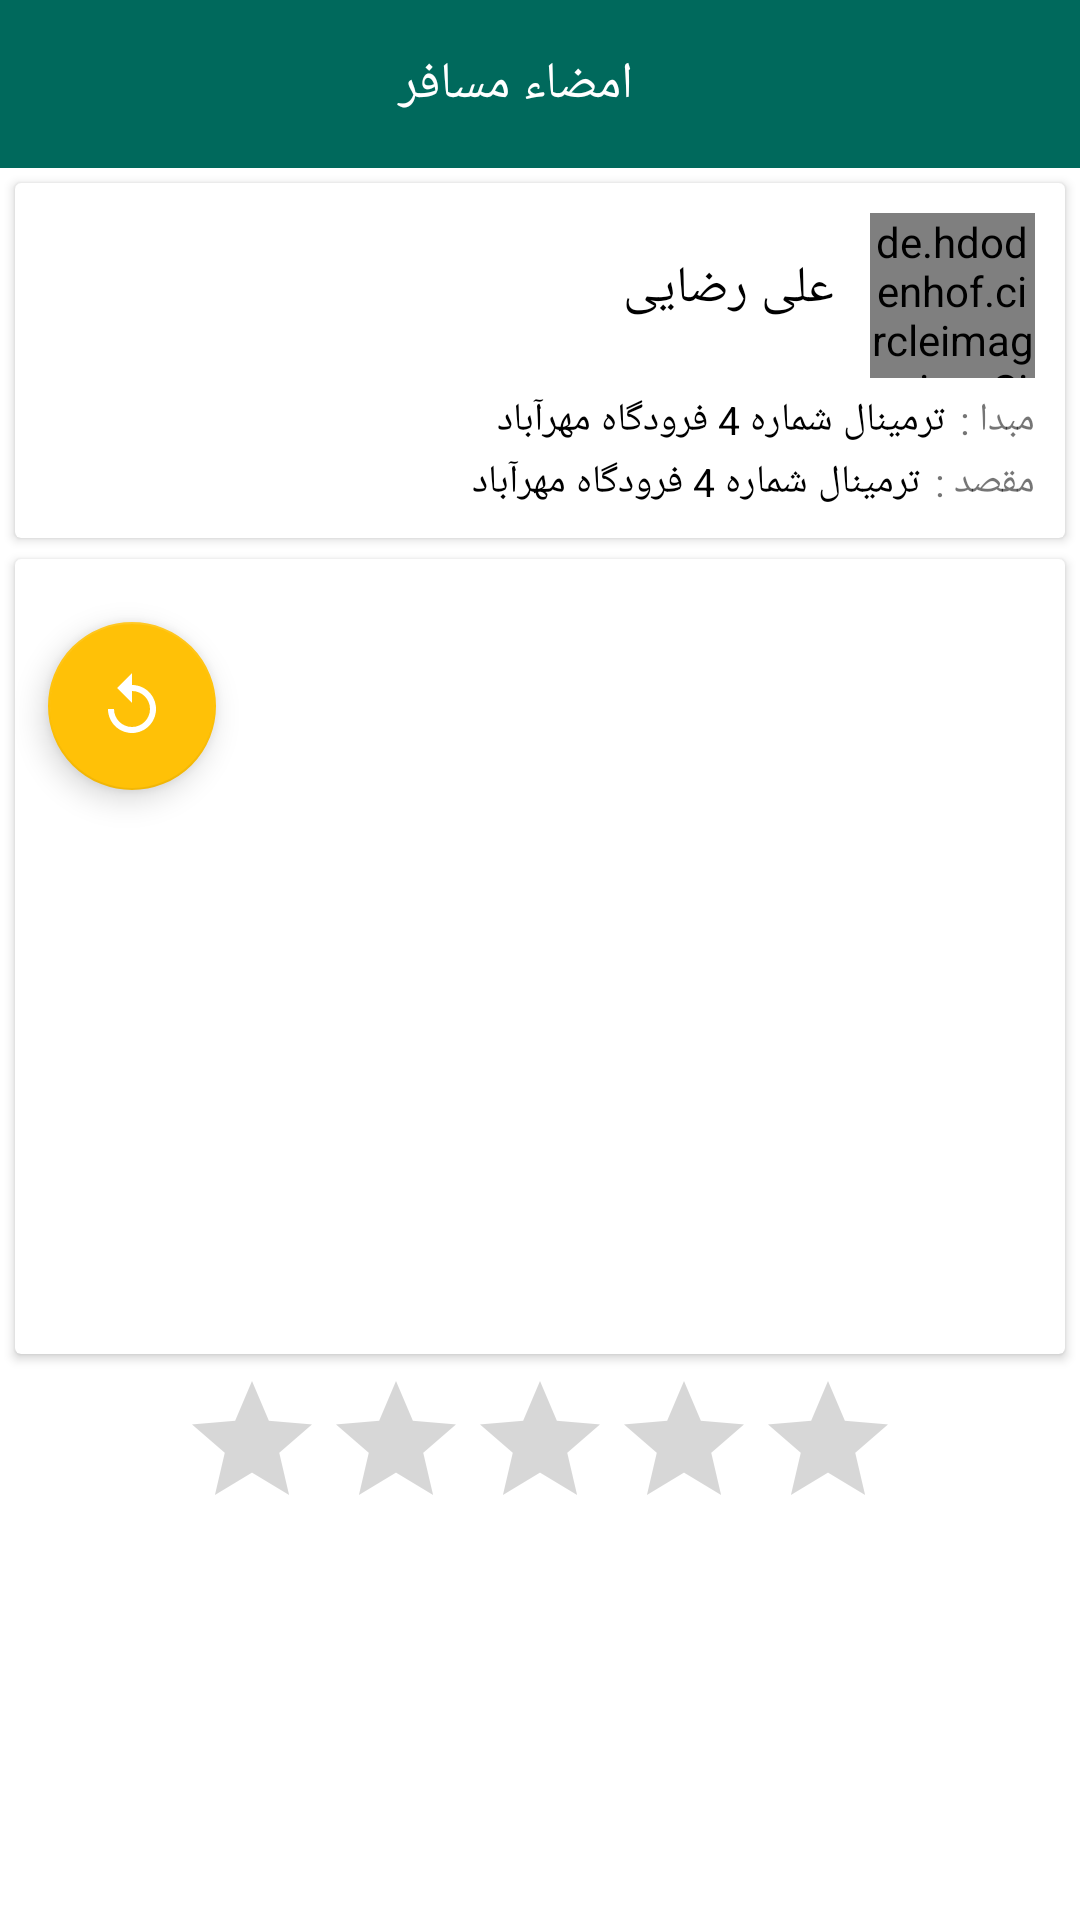

Icon bounding boxes for this 1080w x 1920h phone screenshot, format (x1, y1, x2, y2):
replay: (48, 622, 216, 790)
